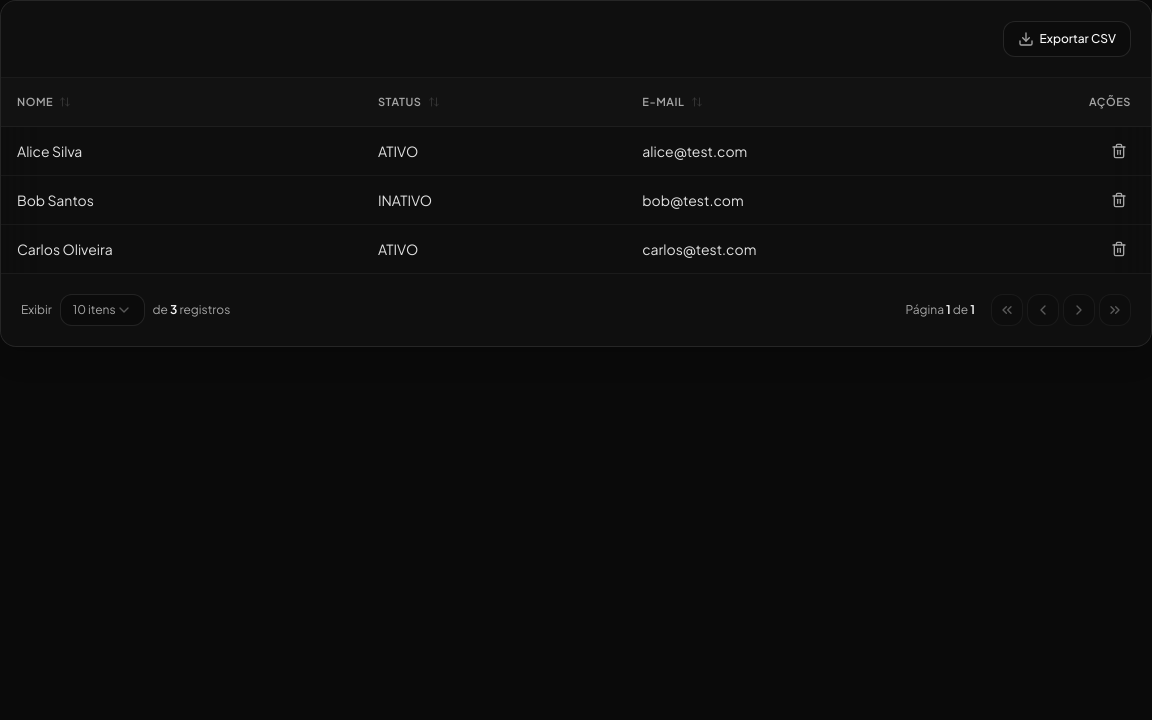
Test: DataTable › Shows delete confirmation dialog when delete button is clicked
What coordinates should you click on to do the following:
click the button titled "excluir" in the row of "Alice Silva"
I would click on:
 (1119, 151)
Its box is [1103,135,1135,167].
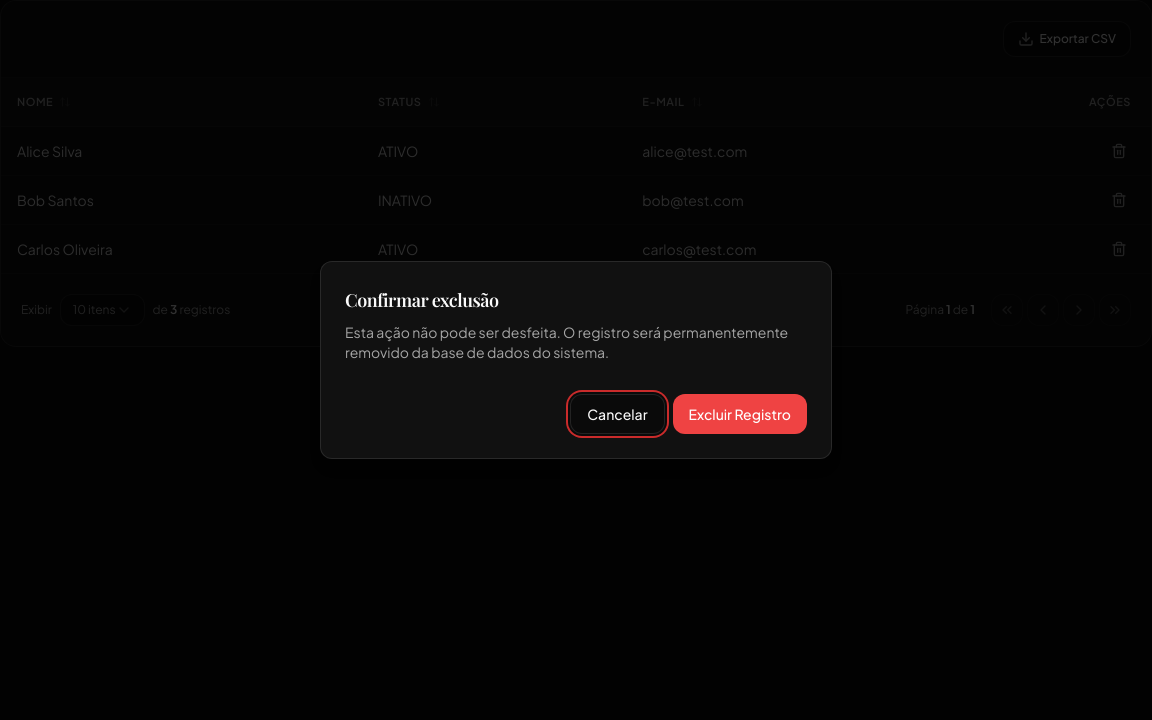
expect the button "Excluir Registro" is shown: met, box [673,394,807,434]
